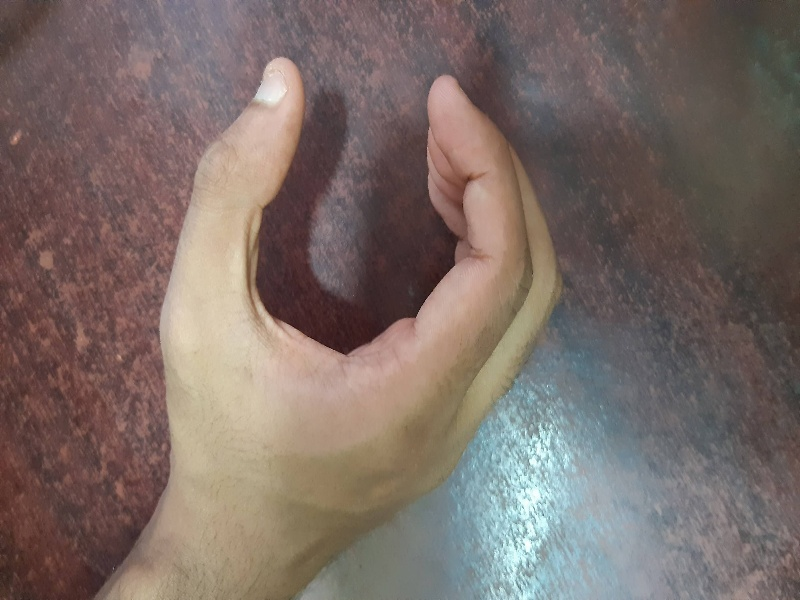one: (131, 46, 577, 511)
